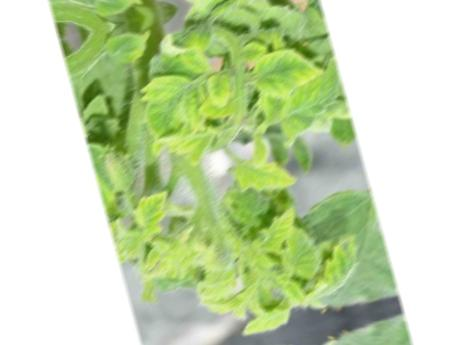Tomato leaf yellow virus: (134, 63, 212, 154), (239, 35, 327, 109), (217, 145, 302, 206), (291, 234, 367, 301), (251, 203, 303, 257), (131, 182, 176, 239)
